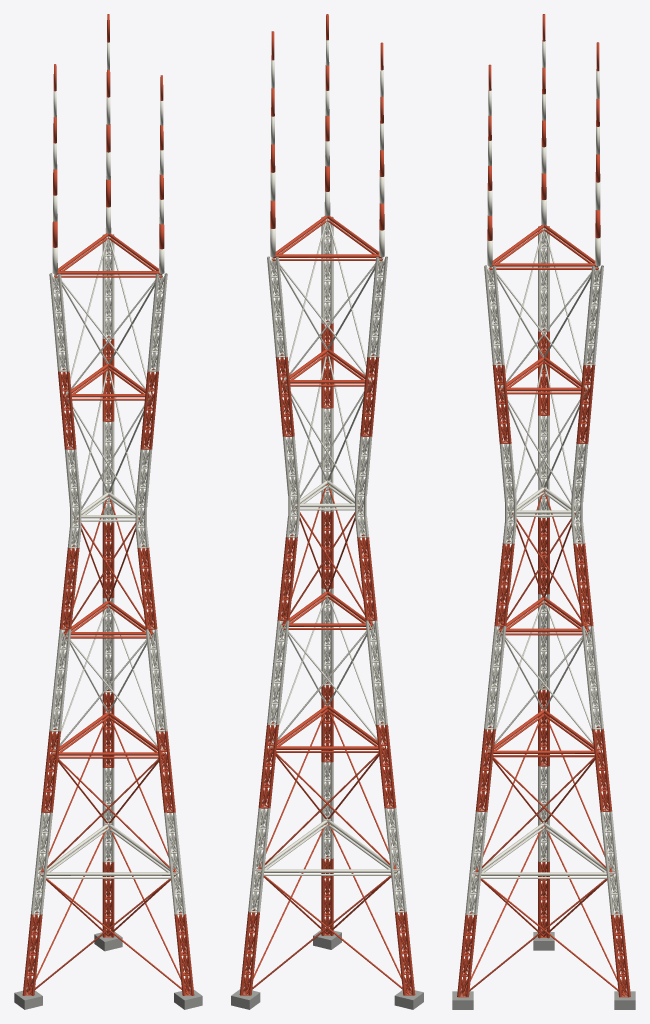
The model's file is sutro-tower-geographic.glb.
3 views of the same model, side by side, from view 1: azimuth 30°, elevation 25°; view 2: azimuth 150°, elevation 25°; view 3: azimuth 270°, elevation 25° (orthographic). The views are drawn at different scales.
Visible parts, largest first — view 1: Sutro Tower aviation white.001, Sutro Tower international orange red.001, Sutro Tower concrete foundations.001; view 2: Sutro Tower aviation white.001, Sutro Tower international orange red.001, Sutro Tower concrete foundations.001; view 3: Sutro Tower international orange red.001, Sutro Tower aviation white.001, Sutro Tower concrete foundations.001.
Part boxes in pixels (x1,y1,x2,y2): Sutro Tower aviation white.001: [31, 42, 185, 914]; Sutro Tower international orange red.001: [22, 14, 194, 995]; Sutro Tower concrete foundations.001: [14, 931, 202, 1009]; Sutro Tower aviation white.001: [248, 40, 406, 912]; Sutro Tower international orange red.001: [239, 14, 415, 995]; Sutro Tower concrete foundations.001: [231, 930, 423, 1009]; Sutro Tower international orange red.001: [457, 14, 630, 997]; Sutro Tower aviation white.001: [465, 41, 622, 915]; Sutro Tower concrete foundations.001: [452, 932, 635, 1009].
Bounding box in the file's own units: 45.6 × 298 × 51.73.
